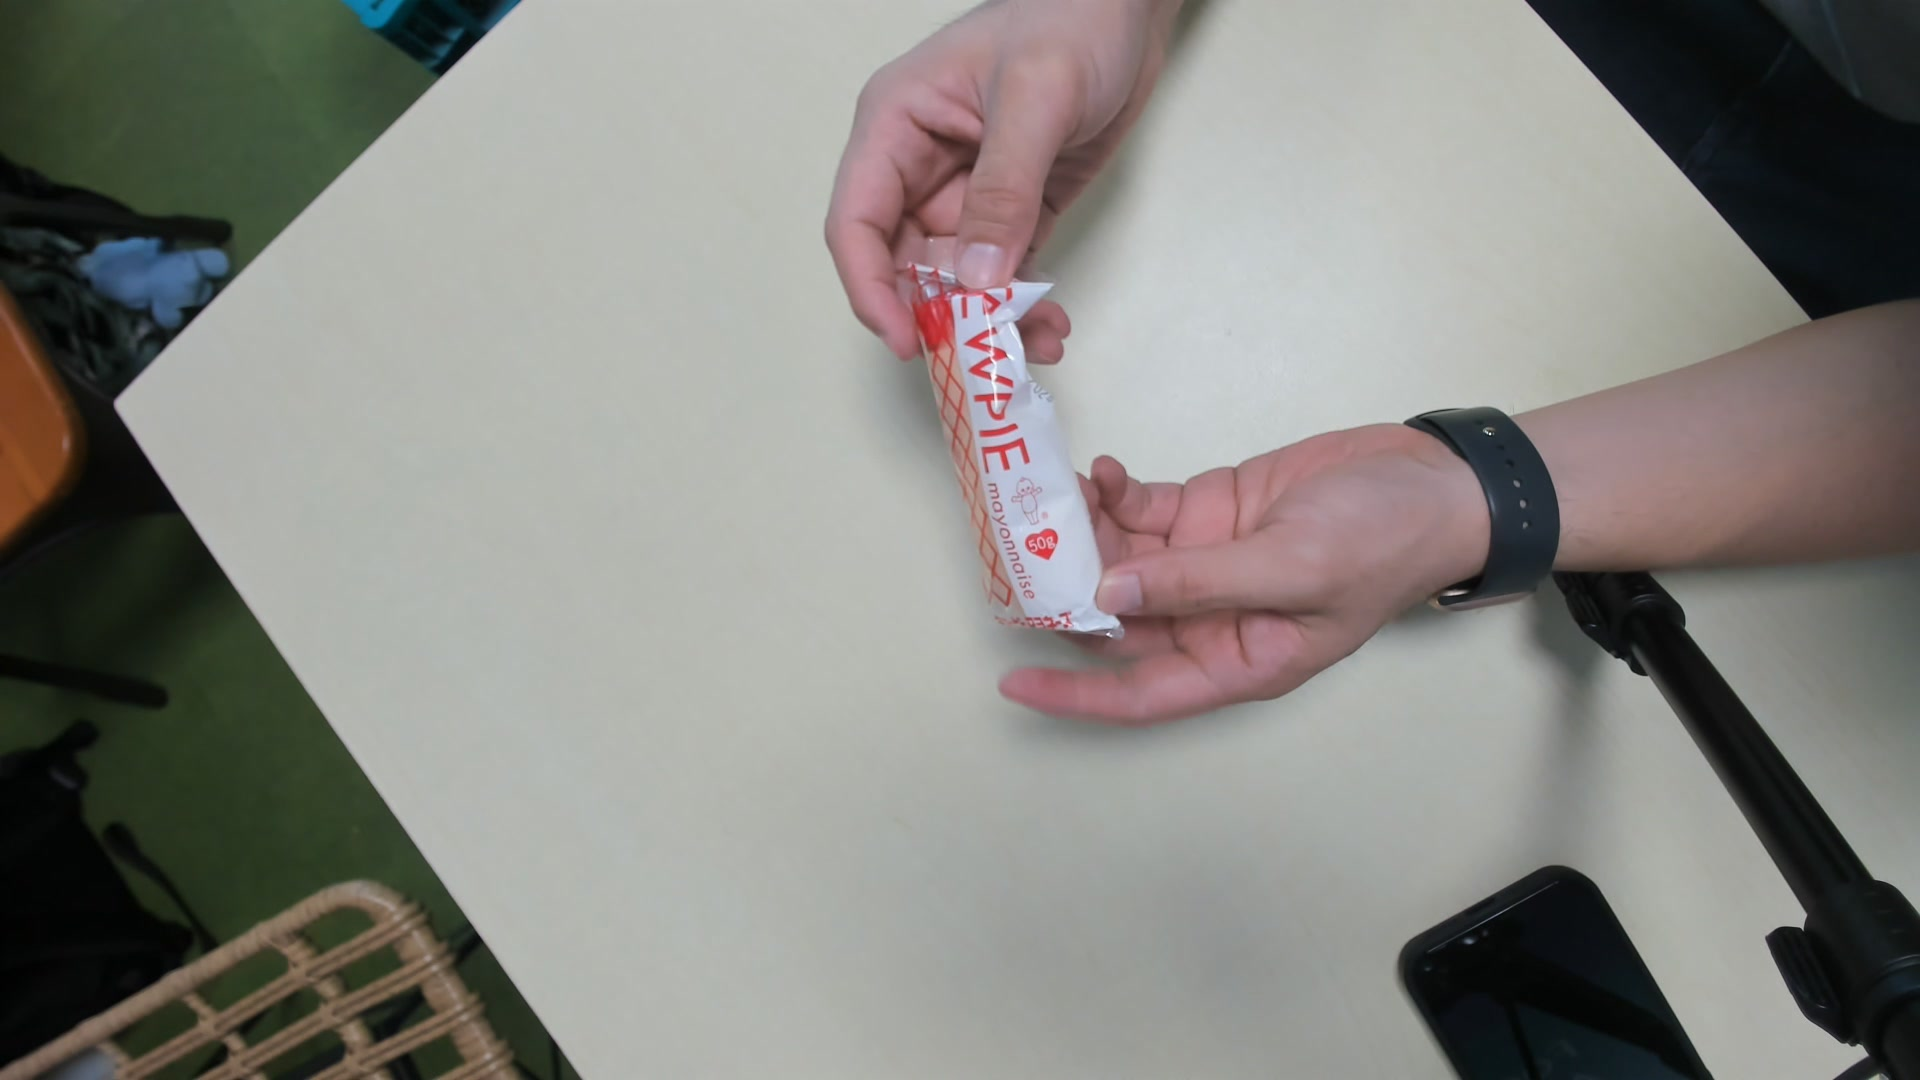OtherSauceDressing_0-99g_NonHalal_NonHealthy: (909, 255, 1116, 637)
